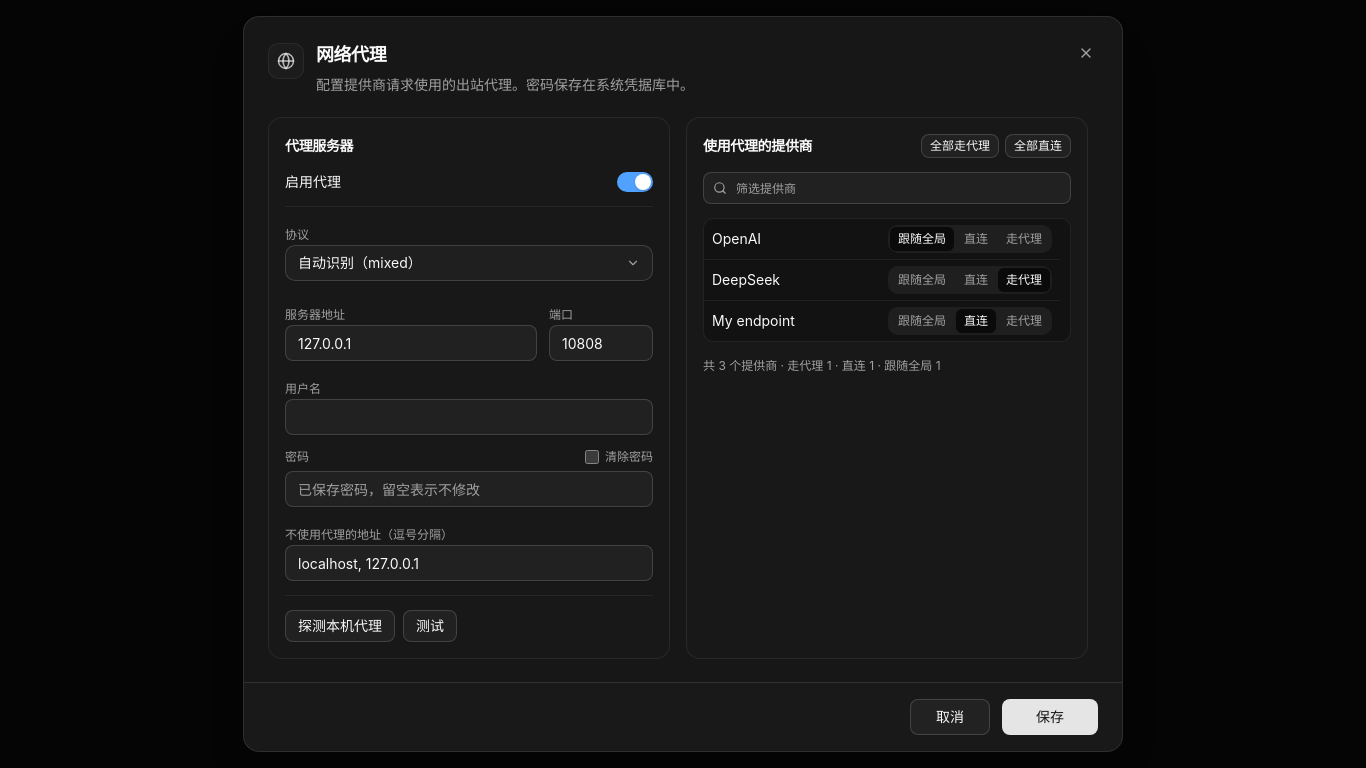
ProxySettingsDialog › shows the specific error when the proxy port does not answer
What coordinates should you click on to do the following:
click the button "测试"
I would click on:
 (430, 626)
Its box is x1=403 y1=610 x2=457 y2=642.
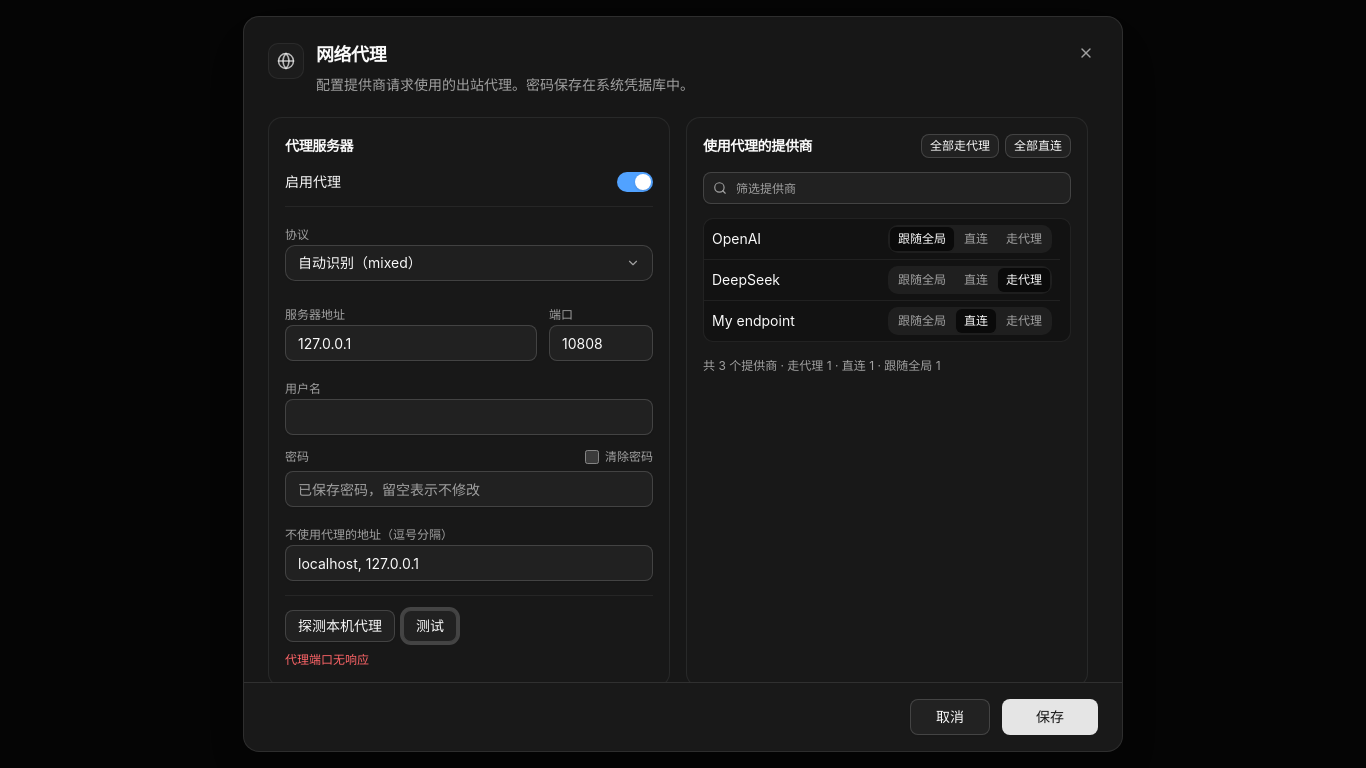
Expected: the message reads "代理端口无响应", x1=285 y1=652 x2=369 y2=667
